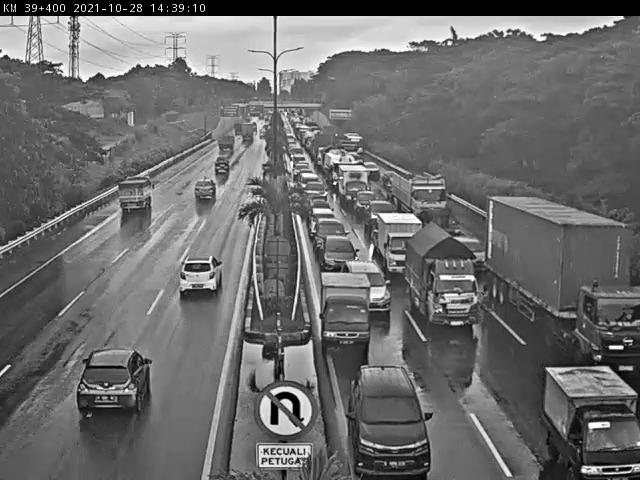big truck: (483, 193, 640, 379), (384, 168, 454, 231)
car: (341, 349, 447, 477), (64, 336, 166, 425), (168, 248, 228, 308), (342, 258, 398, 319), (110, 175, 159, 228), (451, 230, 489, 285), (316, 231, 357, 275), (311, 219, 349, 256), (189, 175, 222, 207), (209, 155, 235, 179)
small truck: (533, 353, 640, 480), (403, 221, 490, 328), (316, 261, 374, 356), (373, 212, 423, 276)
